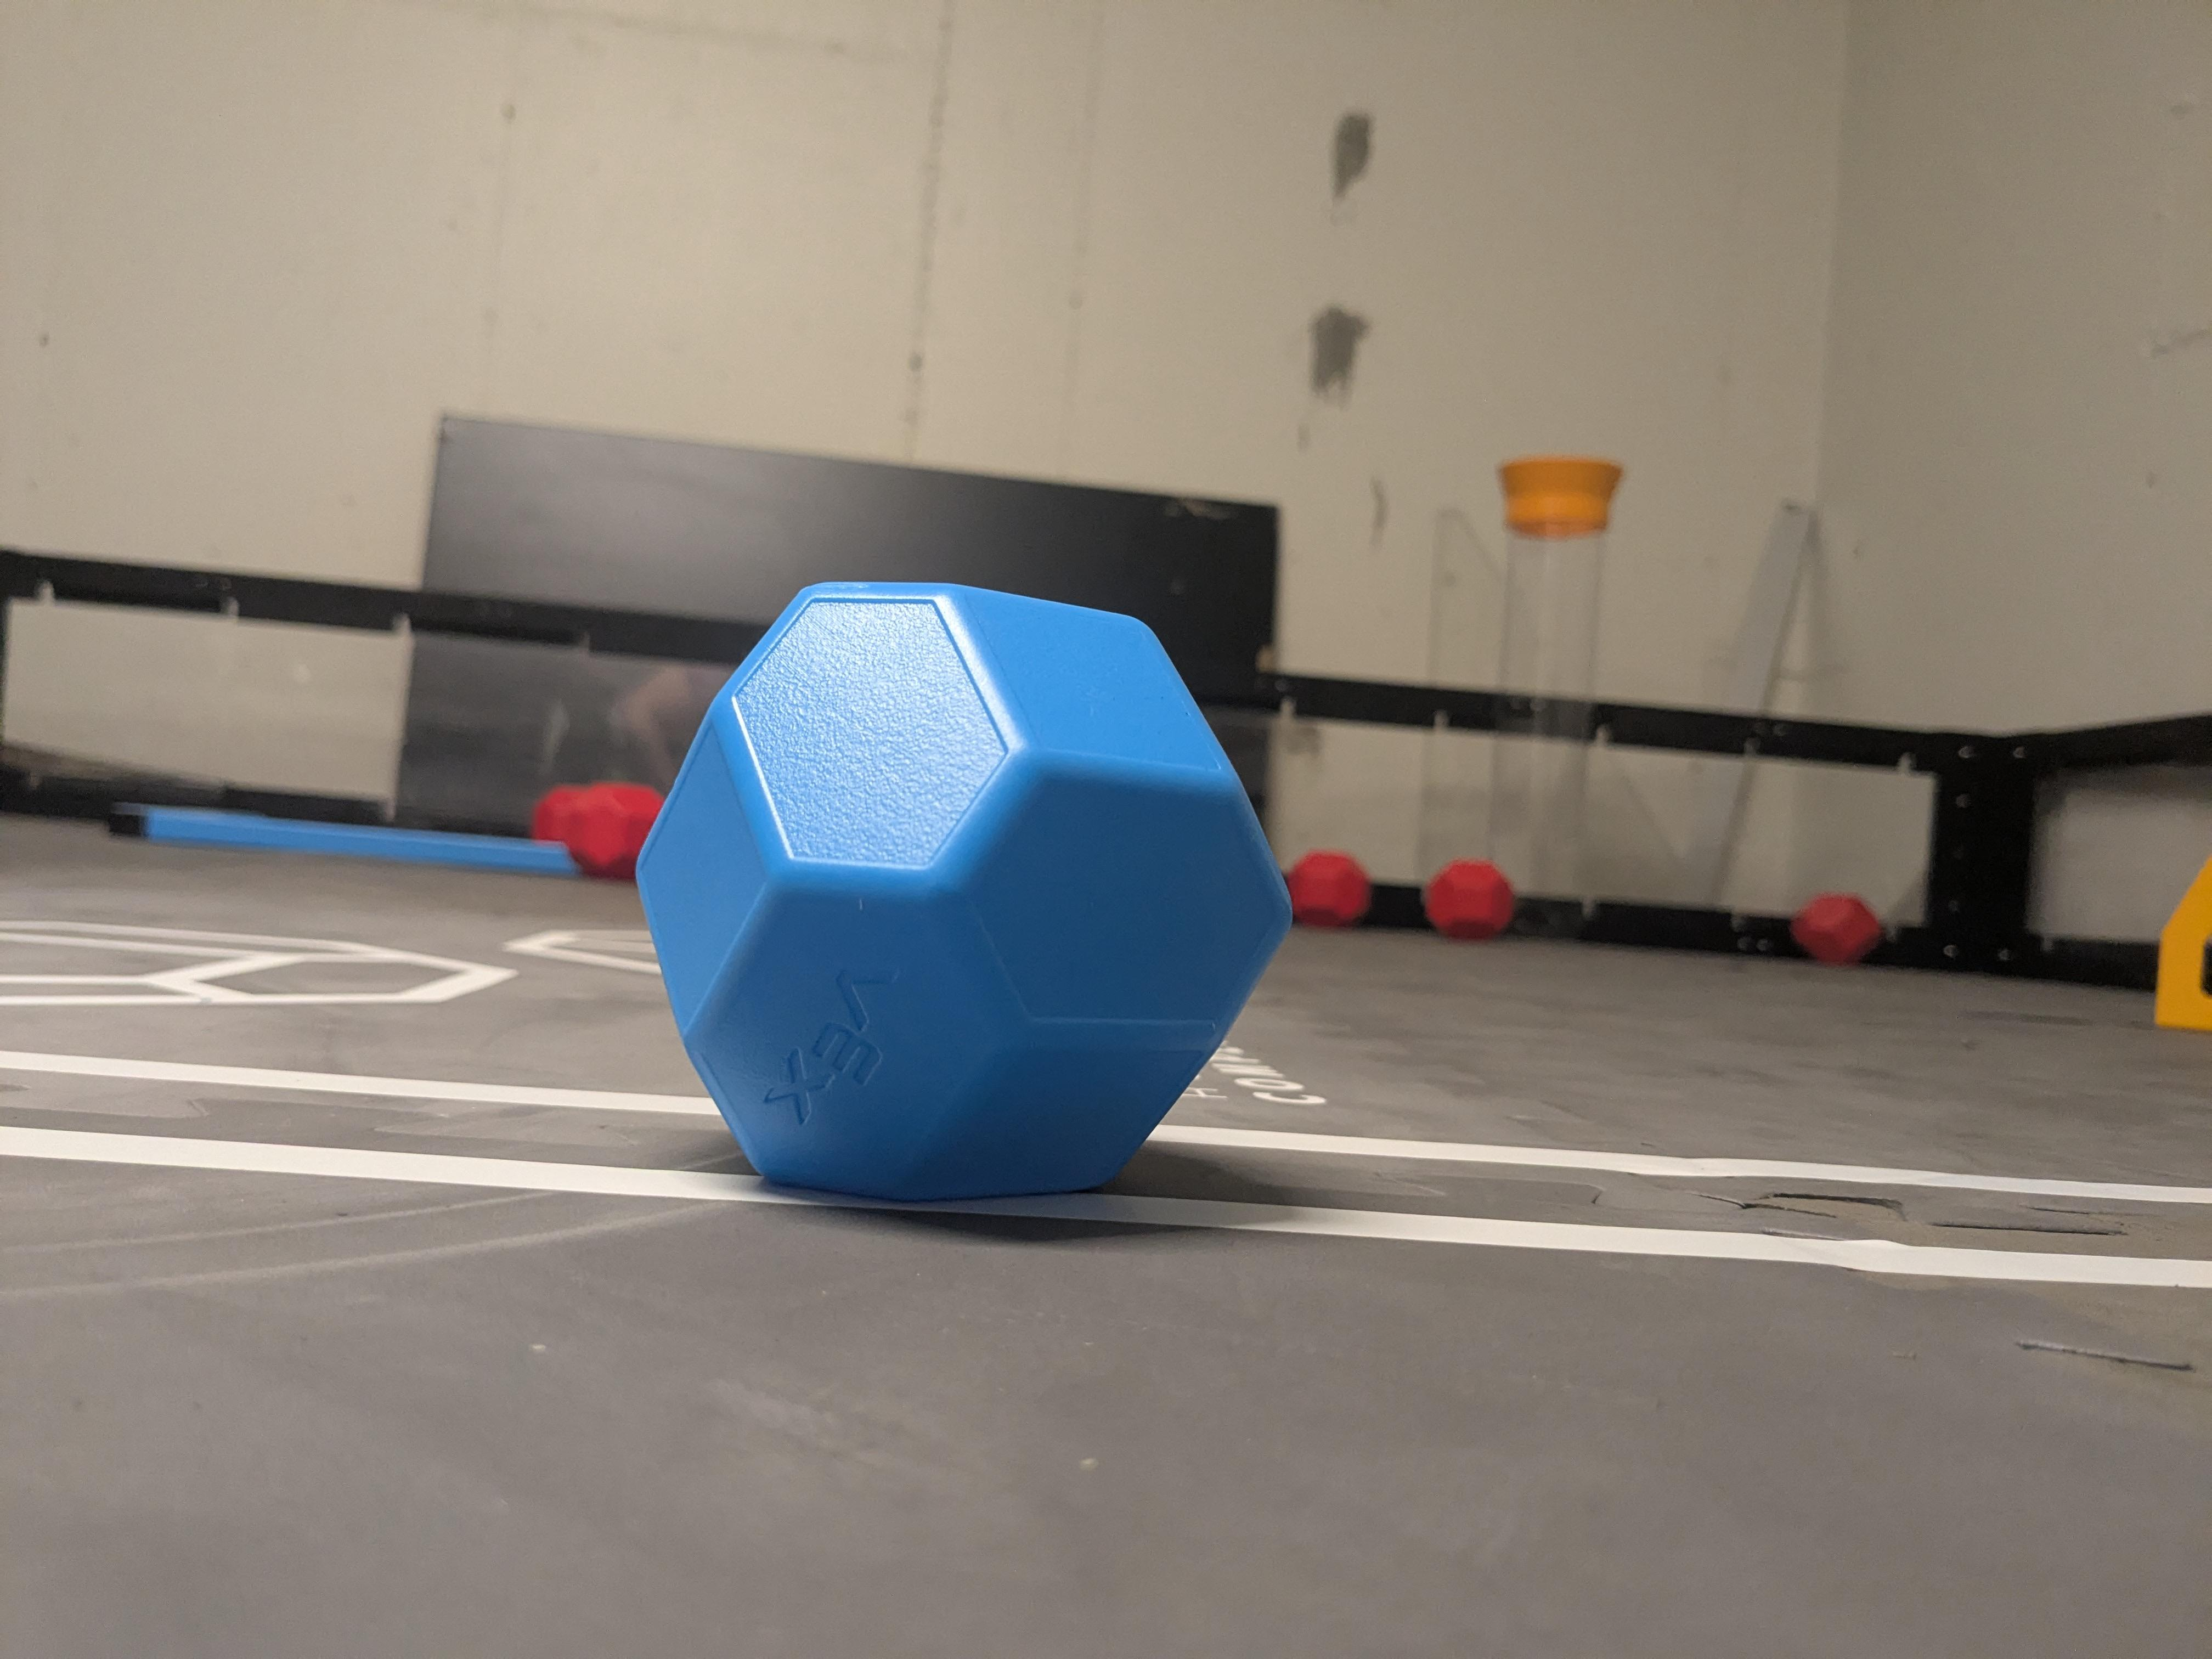Vex-Pieces-BLUE: (643, 582, 1292, 1218)
